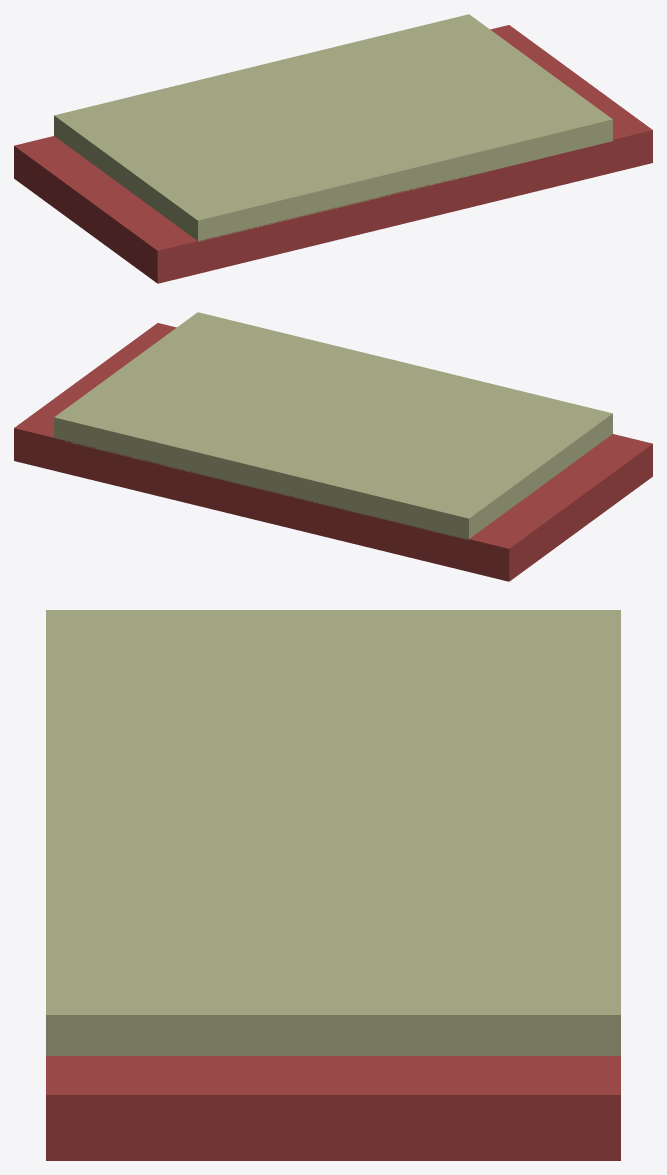
Rendered from Book_Open.fbx.
3 renders of one model, top to bottom at view 1: azimuth 30°, elevation 25°; view 2: azimuth 150°, elevation 25°; view 3: azimuth 270°, elevation 25°, orthographic. The views are drawn at different scales.
Visible parts, largest first — view 1: Left_Page, Left_Page1, pCube1; view 2: Left_Page, Left_Page1, pCube1; view 3: Left_Page1, Left_Page, pCube1.
Boxes of the visible parts, <box> form: Left_Page: <box>54,65,405,241</box>; Left_Page1: <box>262,14,612,191</box>; pCube1: <box>14,25,652,283</box>; Left_Page: <box>261,363,612,540</box>; Left_Page1: <box>54,312,404,489</box>; pCube1: <box>14,323,652,581</box>; Left_Page1: <box>46,812,620,1055</box>; Left_Page: <box>46,610,620,812</box>; pCube1: <box>46,1056,620,1160</box>.
Size of the model in its own units: 1.19 by 0.1229 by 0.6.
